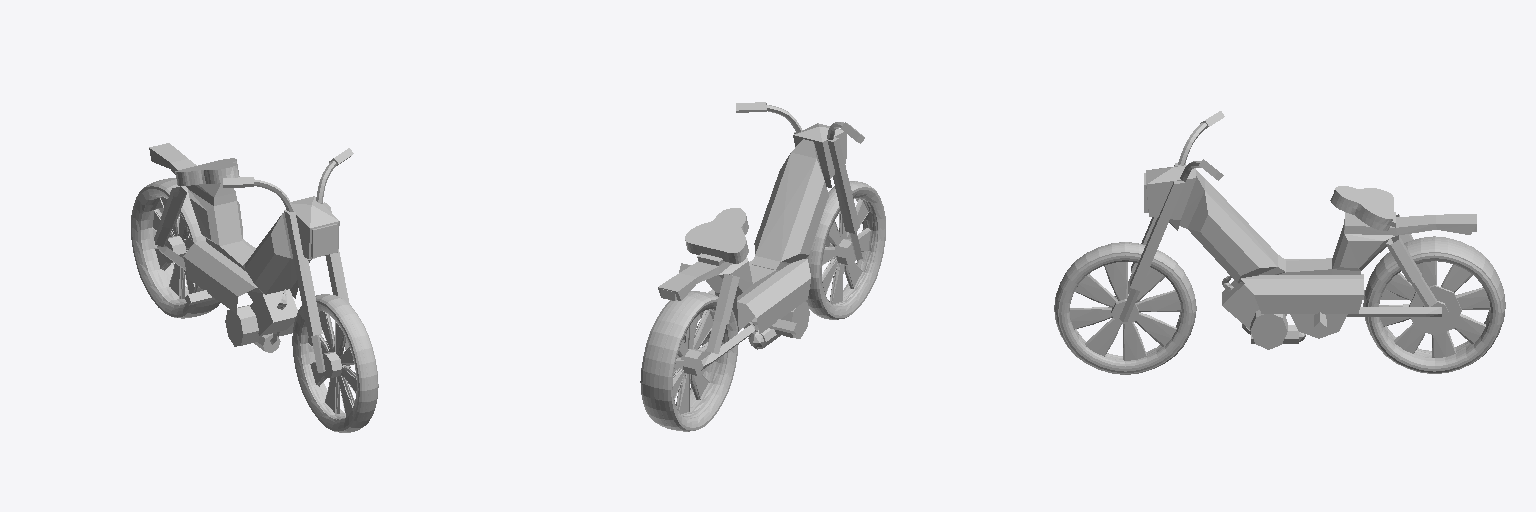
Rendered from peugeot103.obj.
The picture shows the model from 3 angles: view 1: azimuth 30°, elevation 25°; view 2: azimuth 150°, elevation 25°; view 3: azimuth 270°, elevation 25°; orthographic projection.
Visible parts, largest first — view 1: roue_avant, cadre, roue_arriere, carter_droit, fouche_d, cylindre, phare, selle, allumage, sweethome3d_phare_glace, fourche_g, amortisseur_haut_1; view 2: roue_arriere, cadre, roue_avant, carter_droit, selle, fouche_d, phare, amortisseur_haut_1, allumage, bras_oscillant; view 3: roue_avant, roue_arriere, cadre, carter_gauche, selle, phare, fourche_g, couronne, vario, cylindre, bras_oscillant, plateau (+1 smaller).
Boxes of the visible parts, x1,y1,x2,y2 form: roue_avant: [292, 294, 378, 432]; cadre: [149, 143, 314, 294]; roue_arriere: [131, 178, 220, 318]; carter_droit: [183, 241, 257, 312]; fouche_d: [284, 210, 322, 335]; cylindre: [250, 289, 297, 335]; phare: [286, 196, 339, 258]; selle: [175, 158, 239, 185]; allumage: [225, 305, 259, 346]; sweethome3d_phare_glace: [311, 224, 337, 257]; fourche_g: [323, 202, 349, 304]; amortisseur_haut_1: [161, 186, 186, 228]; roue_arriere: [640, 291, 738, 431]; cadre: [658, 139, 828, 331]; roue_avant: [805, 181, 885, 319]; carter_droit: [737, 259, 810, 333]; selle: [685, 208, 748, 263]; fouche_d: [827, 137, 859, 233]; phare: [793, 123, 846, 187]; amortisseur_haut_1: [713, 274, 739, 323]; allumage: [775, 302, 809, 338]; bras_oscillant: [701, 322, 755, 370]; roue_avant: [1054, 242, 1196, 374]; roue_arriere: [1363, 236, 1505, 373]; cadre: [1179, 170, 1476, 283]; carter_gauche: [1241, 274, 1363, 313]; selle: [1330, 186, 1393, 230]; phare: [1146, 165, 1195, 230]; fourche_g: [1130, 181, 1184, 290]; couronne: [1409, 285, 1461, 335]; vario: [1250, 310, 1287, 349]; cylindre: [1222, 280, 1259, 329]; bras_oscillant: [1347, 290, 1441, 316]; plateau: [1290, 314, 1347, 338].
Bounding box in the file's own units: 2.68 × 4.57 × 8.05.